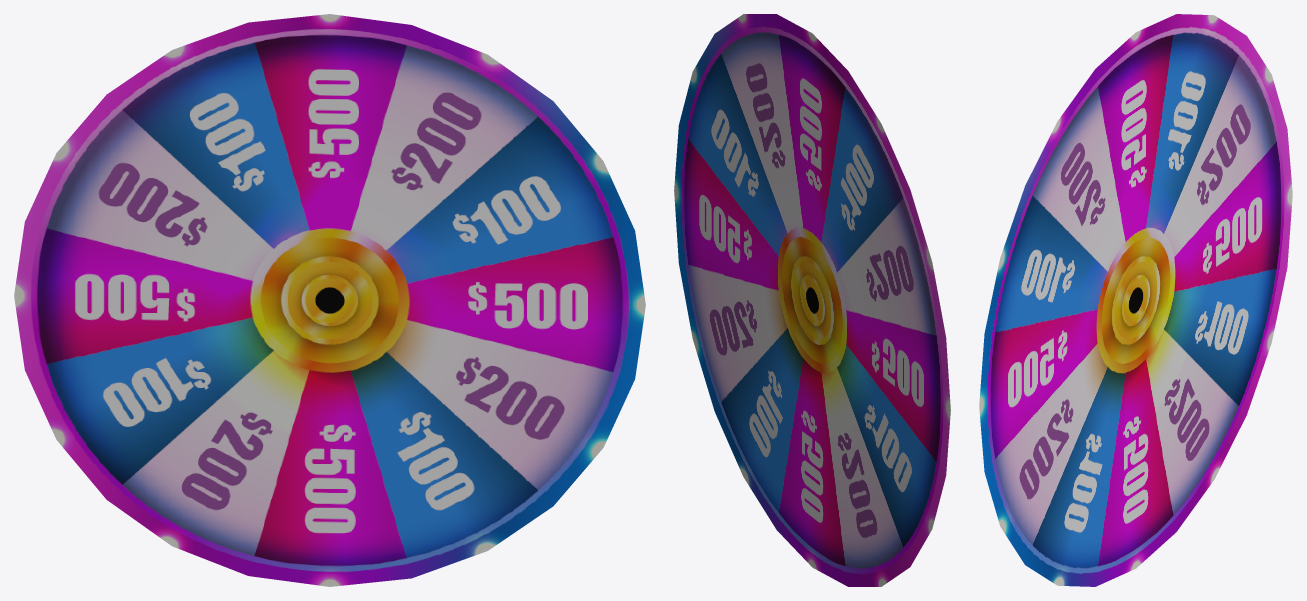
The model's file is luckyDrawWheelCenter.glb.
3 views of the same model, side by side, from view 1: azimuth 30°, elevation 25°; view 2: azimuth 150°, elevation 25°; view 3: azimuth 270°, elevation 25° (orthographic). The views are drawn at different scales.
Parts seen in each view (by area): view 1: luckyDrawWheelCenter; view 2: luckyDrawWheelCenter; view 3: luckyDrawWheelCenter.
Boxes of the visible parts, x1=… form: luckyDrawWheelCenter: x1=14, y1=14, x2=645, y2=586; luckyDrawWheelCenter: x1=674, y1=14, x2=950, y2=586; luckyDrawWheelCenter: x1=979, y1=14, x2=1292, y2=586.
Size of the model in its own units: 0.8238 by 0.9714 by 0.5148.
1 material, 1 textured.
